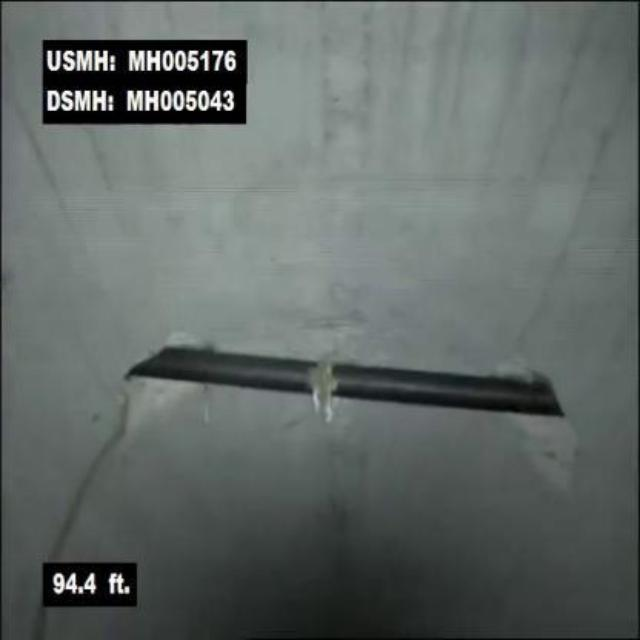Utility intrusion: (95, 335, 588, 428)
